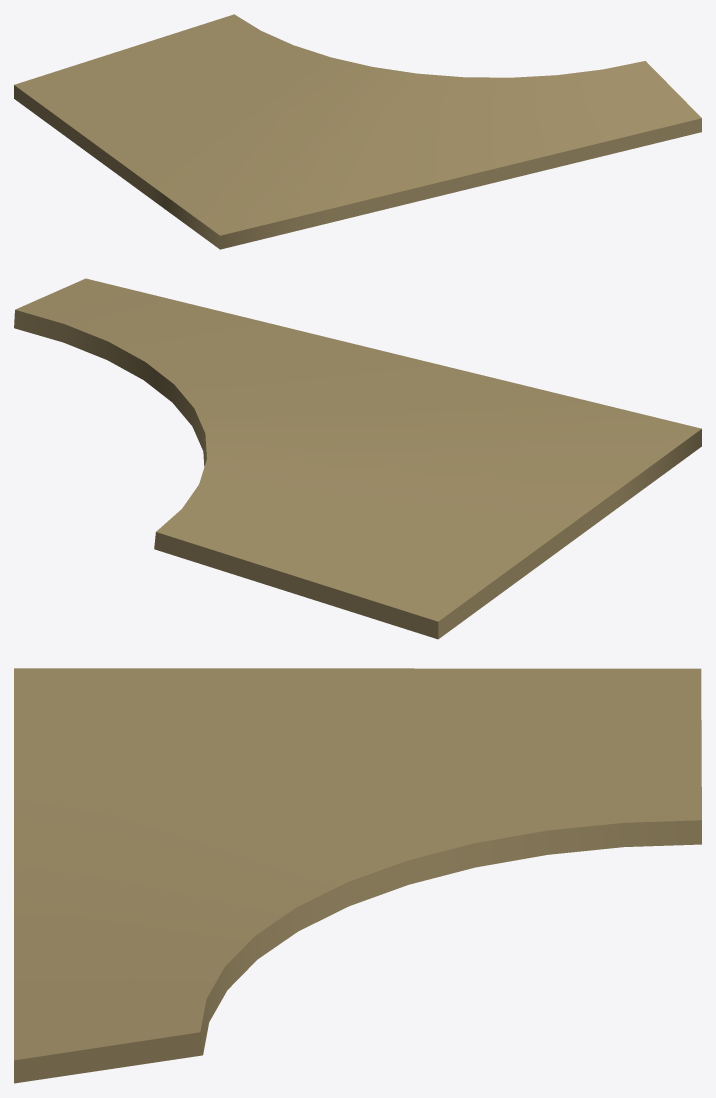
Rendered from G_Metal_08.fbx.
3 renders of one model, top to bottom at view 1: azimuth 30°, elevation 25°; view 2: azimuth 150°, elevation 25°; view 3: azimuth 270°, elevation 25°, orthographic. The views are drawn at different scales.
Visible parts, largest first — view 1: G_Metal_08; view 2: G_Metal_08; view 3: G_Metal_08.
Part boxes in pixels (box(x1,y1,x2,y2)): G_Metal_08: box(14, 14, 701, 249); G_Metal_08: box(14, 278, 701, 639); G_Metal_08: box(14, 668, 701, 1083).
Size of the model in its own units: 40.25 by 2.44 by 29.87.
